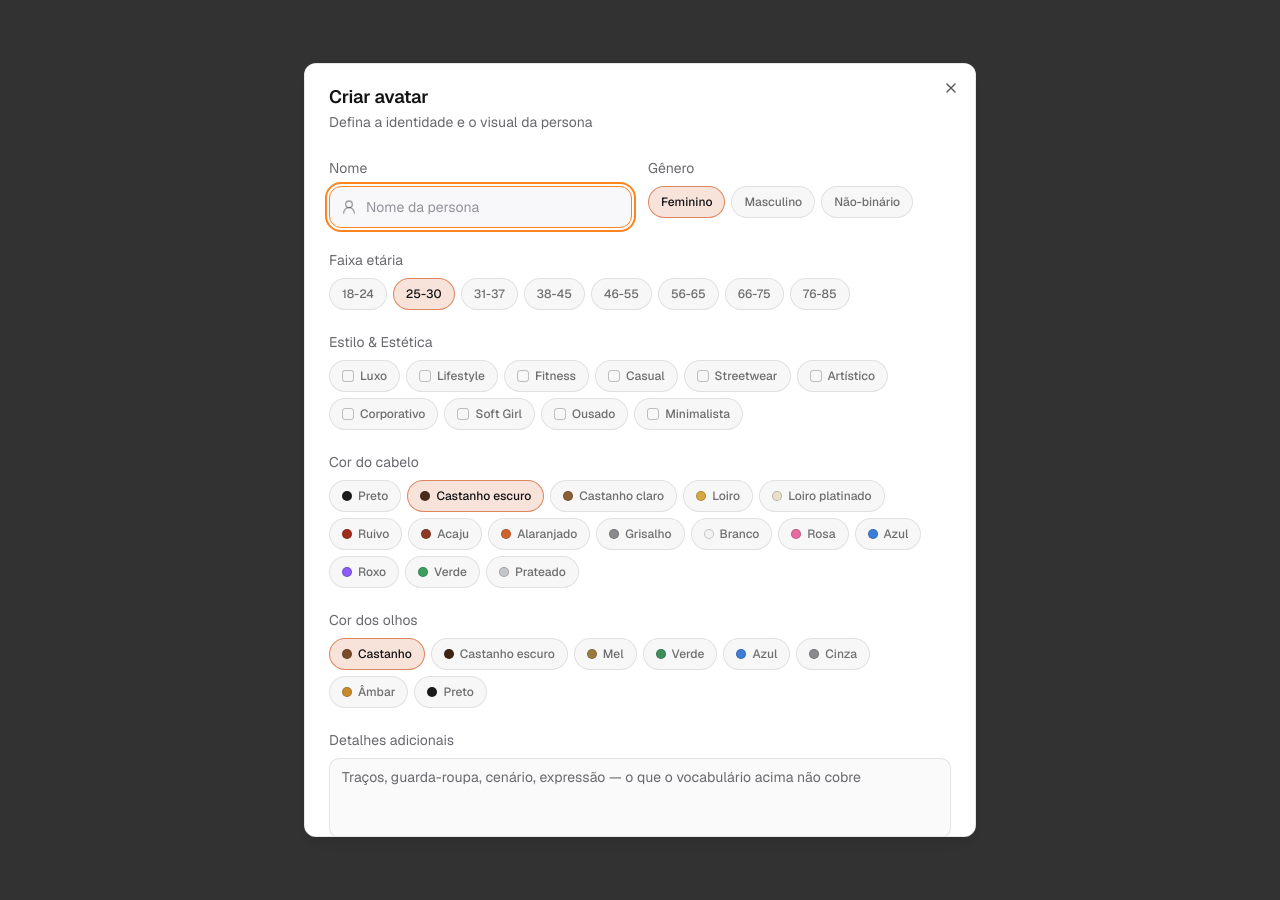
Test: AvatarCustomizerDialog › faixa etária e cores são escolha única — a nova substitui a anterior
What coordinates should you click on to do the following:
click the button "18-24"
I would click on:
 (358, 294)
Its box is left=329, top=278, right=387, bottom=310.
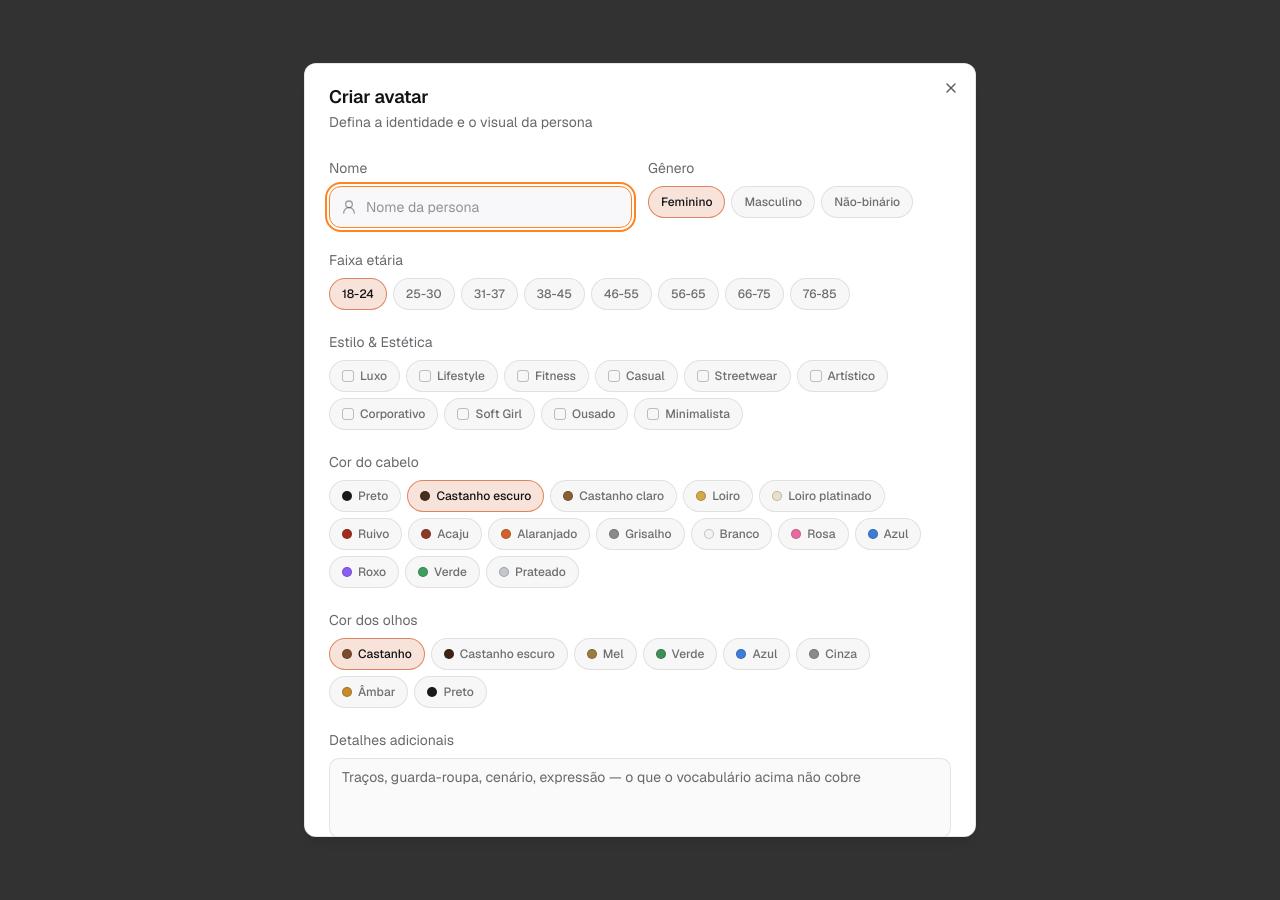
Expected: the button "18-24" is pressed, left=329, top=278, right=387, bottom=310
What coordinates should you click on to do the following:
click the button "46-55"
I would click on:
 (622, 294)
Its box is left=591, top=278, right=652, bottom=310.
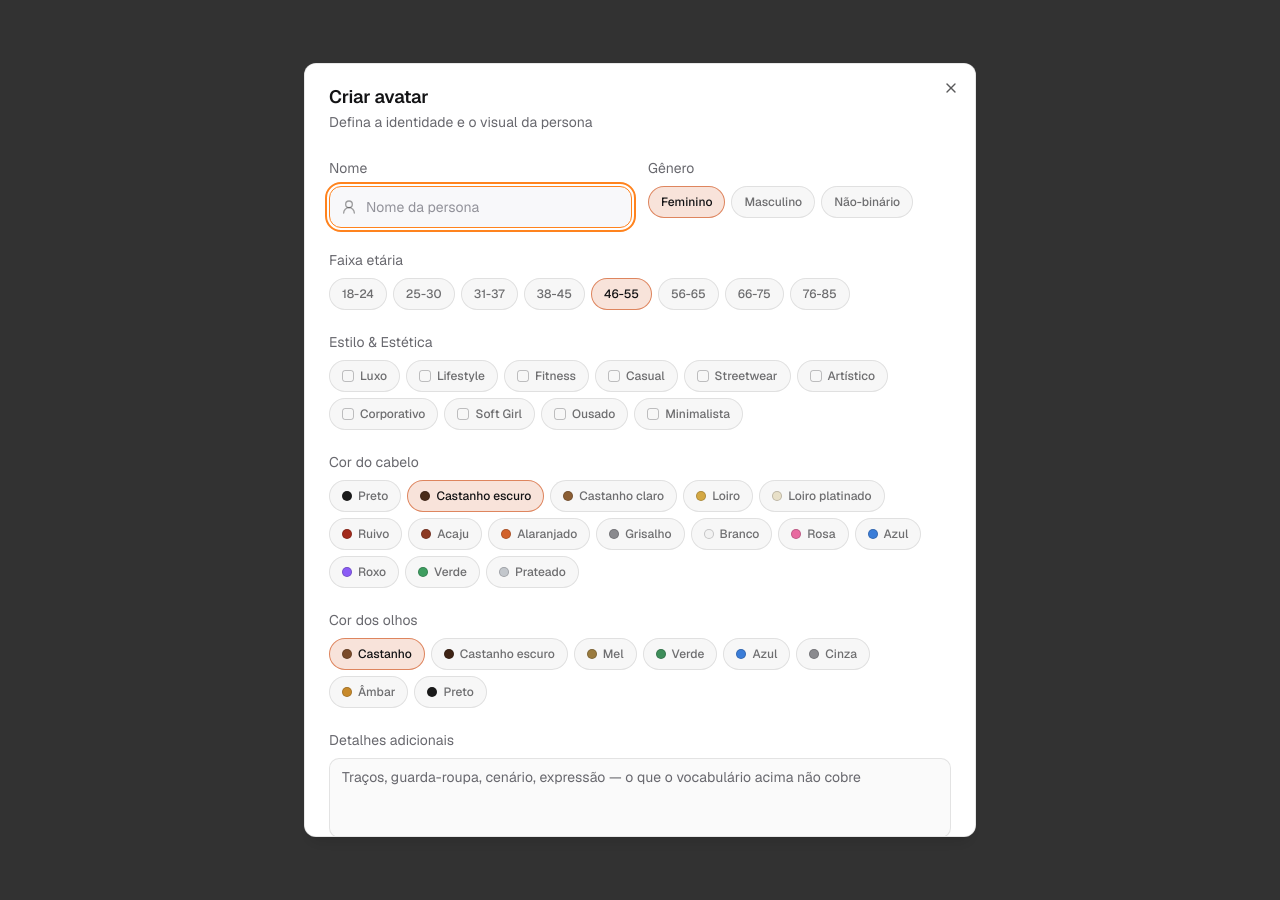
Expected: the button "46-55" is pressed, left=591, top=278, right=652, bottom=310
Expected: the button "18-24" is not pressed, left=329, top=278, right=387, bottom=310
